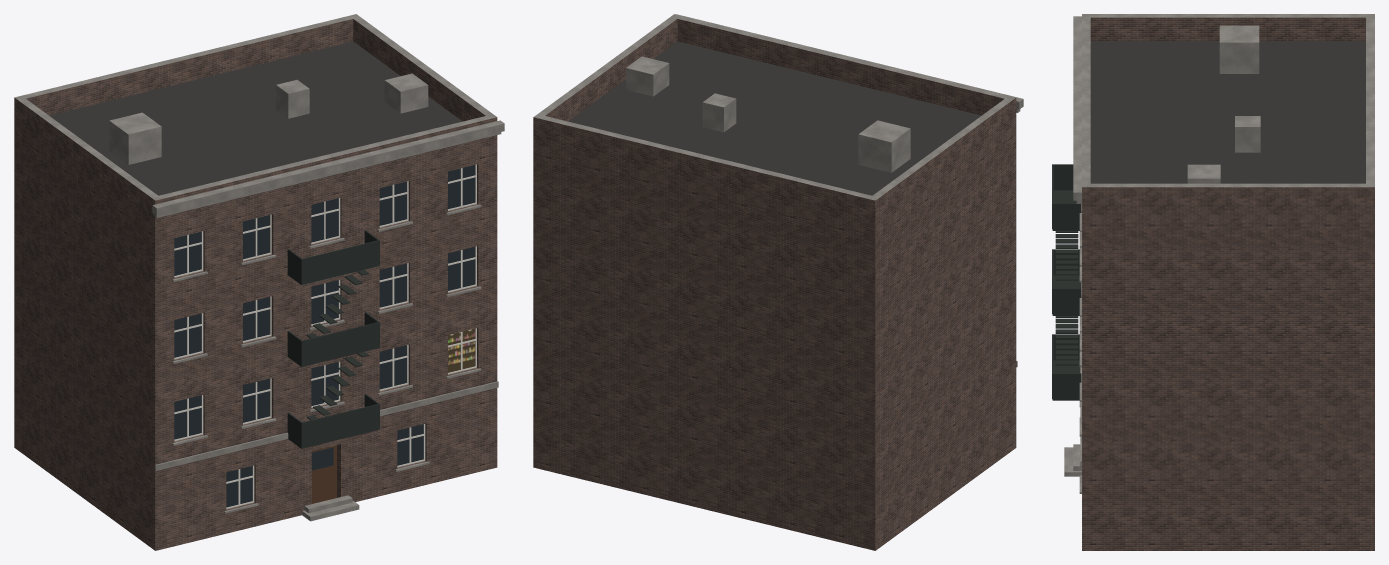
File: Bld_Residential.fbx
3 renders of one model, left to right at view 1: azimuth 30°, elevation 25°; view 2: azimuth 150°, elevation 25°; view 3: azimuth 270°, elevation 25°, orthographic. The views are drawn at different scales.
Visible parts, largest first — view 1: Bld_Residential; view 2: Bld_Residential; view 3: Bld_Residential.
Part boxes in pixels (box(x1,y1,x2,y2)): Bld_Residential: box(14, 14, 504, 550); Bld_Residential: box(533, 14, 1023, 550); Bld_Residential: box(1052, 14, 1374, 550).
Bounding box in the file's own units: 14.24 × 14.01 × 11.02.
